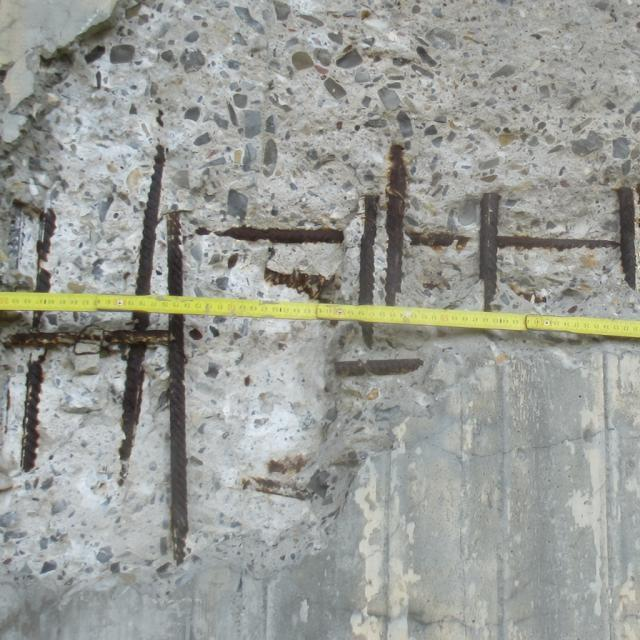D0w0: (2, 0, 625, 309)
